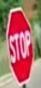Stop-Sign: (6, 10, 33, 82)
